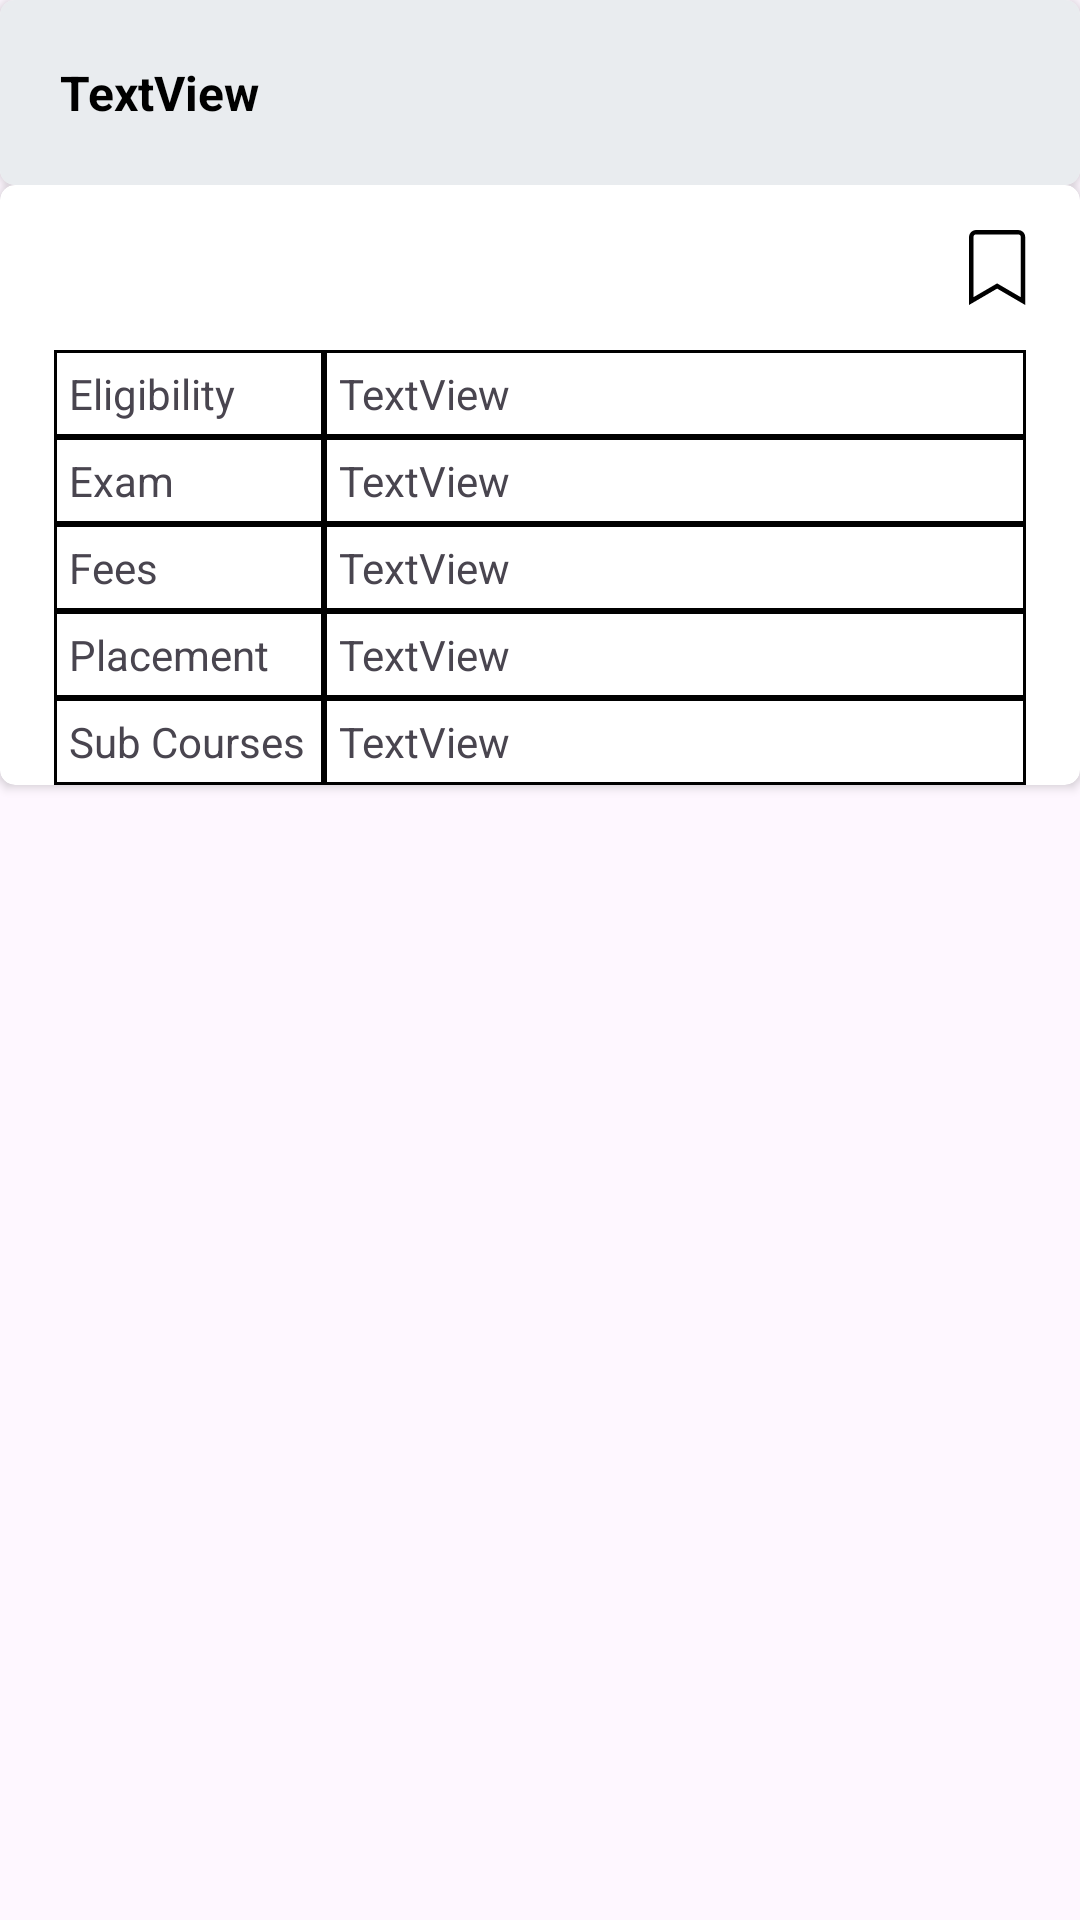

Named icons in this screenshot (1080 x 1920) and their bounding boxes, (x1, y1, x2, y2):
save: (969, 230, 1026, 305)
